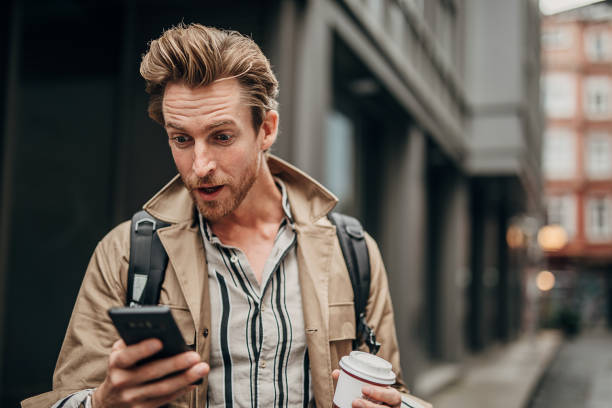without mask: (146, 67, 275, 235)
